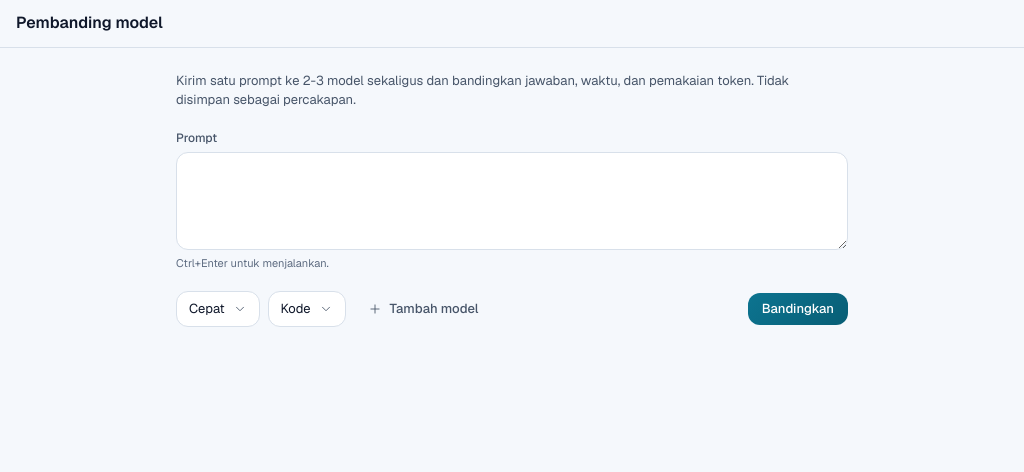
Test: CompareScreen › dua model bawaan; prompt wajib; menjalankan mengirim prompt dan model terpilih
Click the button "Bandingkan".
click(798, 309)  # box [748,293,848,325]
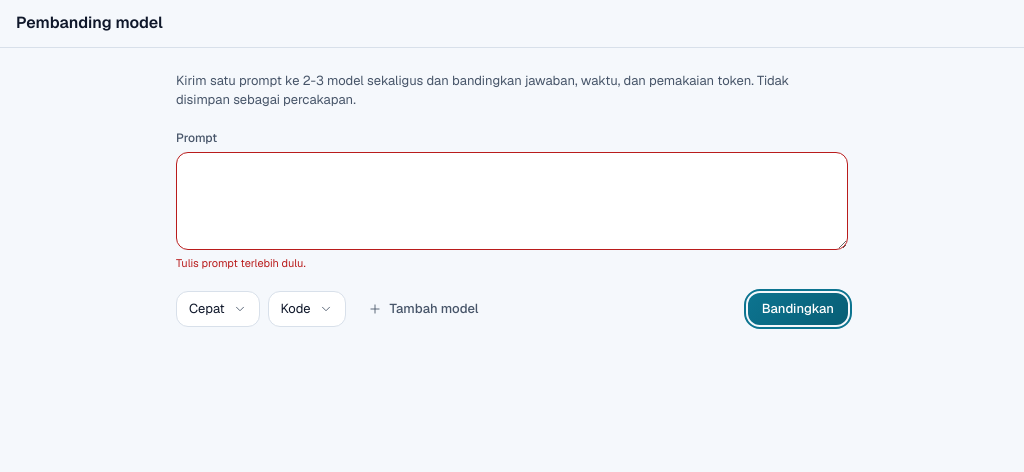
Expected: the text "Tulis prompt terlebih dulu." is shown, [176,256,306,270]
Type "jelaskan closure" into the text box labelled "Prompt".
click(512, 201); type("jelaskan closure")  # box [176,152,848,250]
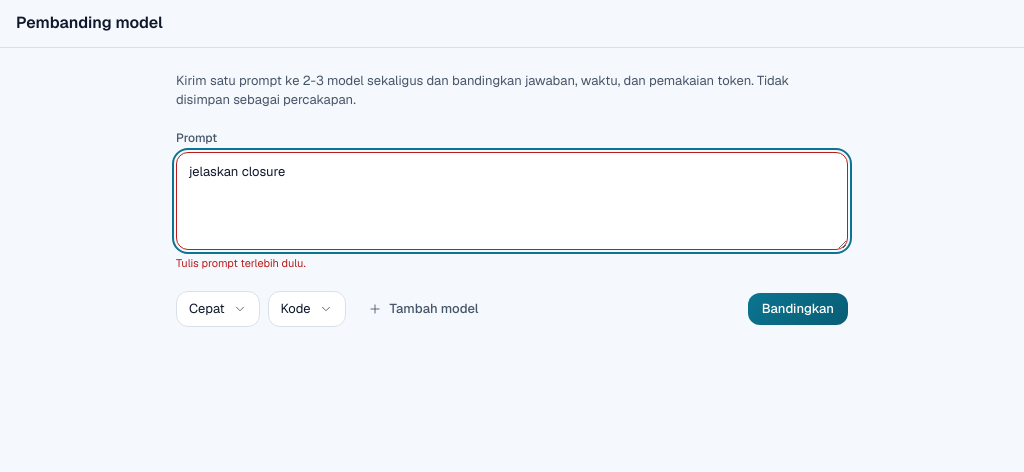
Click the button "Bandingkan".
click(798, 309)  # box [748,293,848,325]
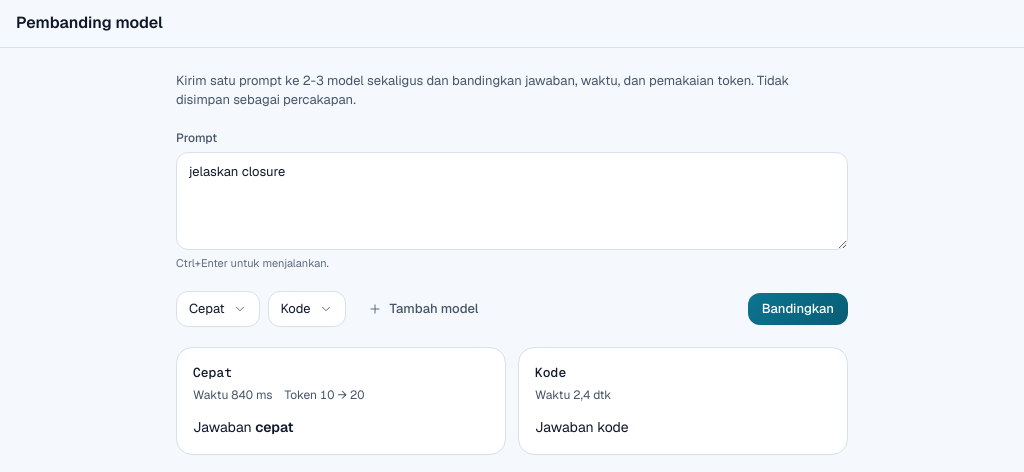
Expected: the element "Cepat" shows "840 ms", [231,387,272,403]
Expected: the element "Cepat" shows "10 → 20", [176,347,506,455]
Expected: the element "Kode" shows "2,4 dtk", [573,387,611,403]
